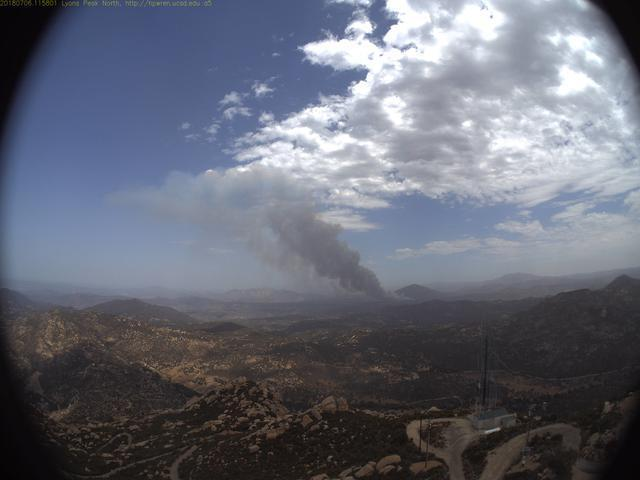Smoke: (170, 166, 395, 310)
